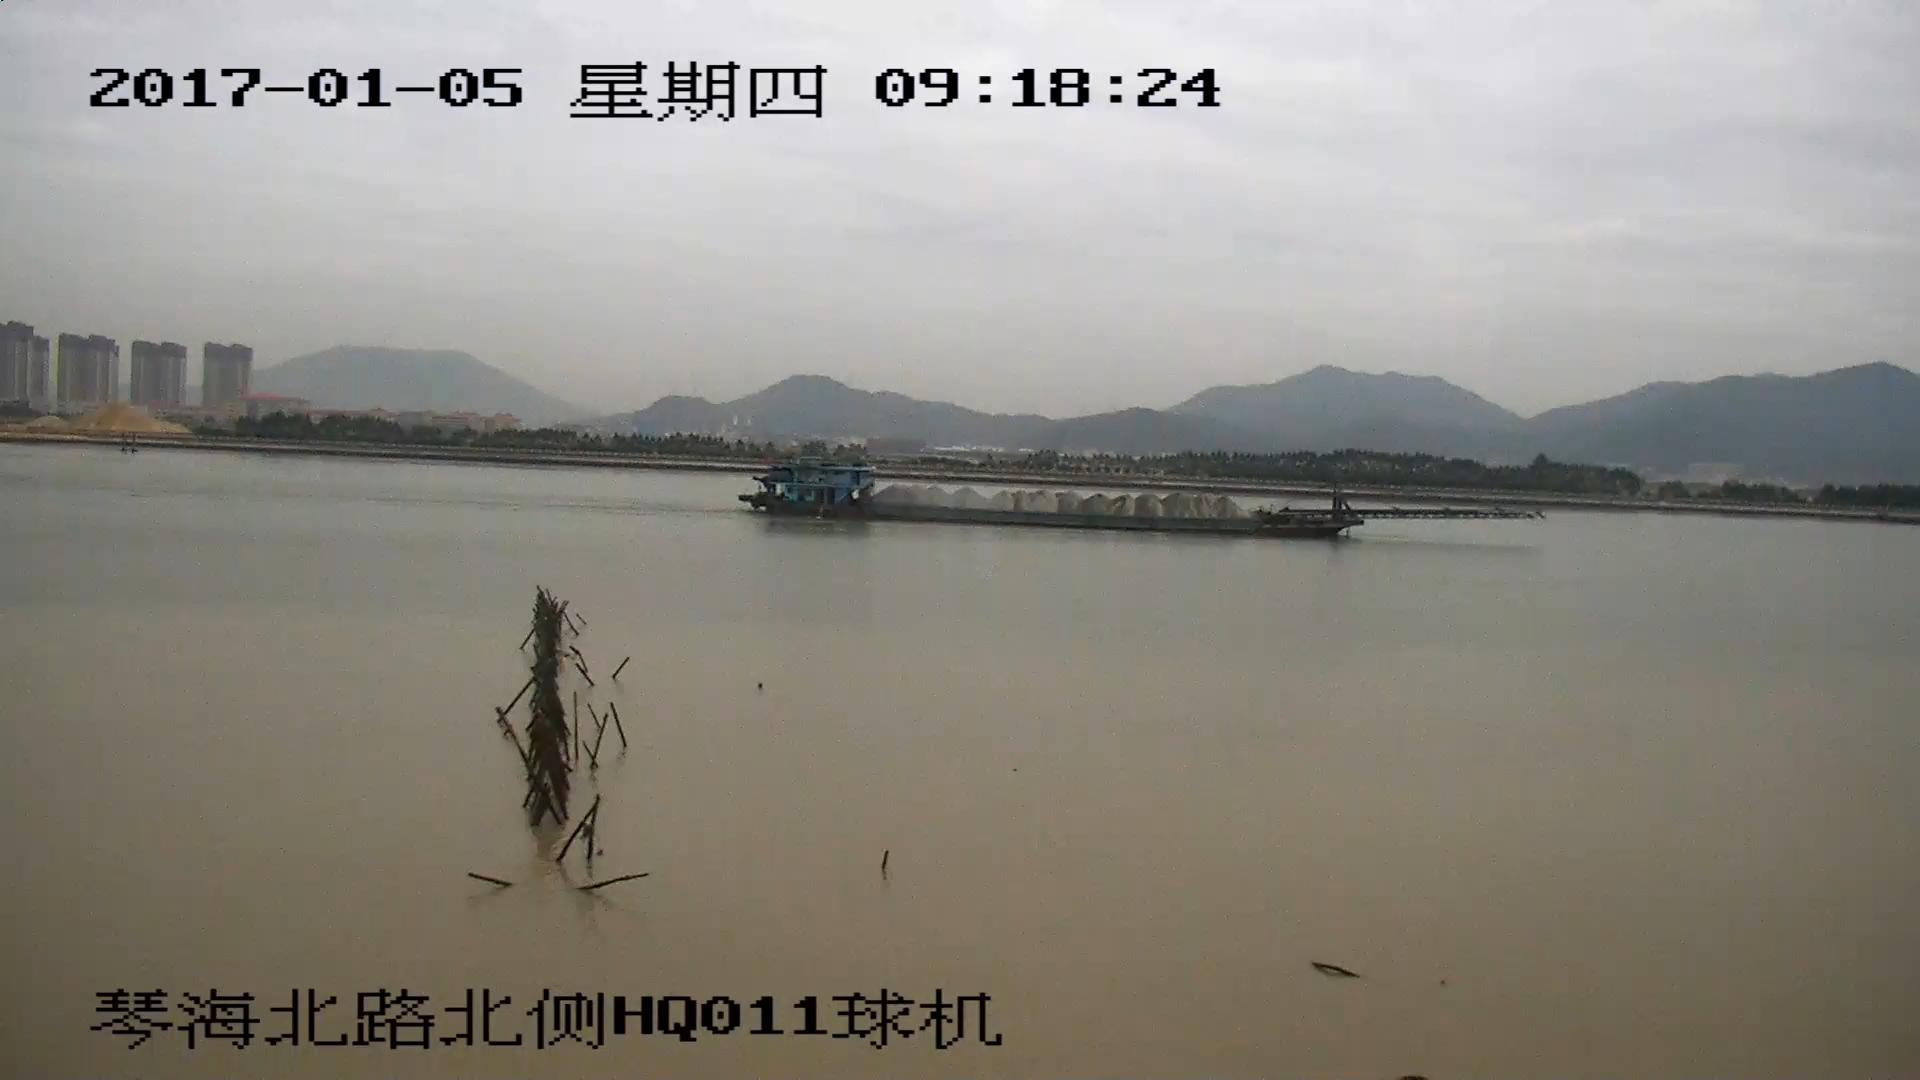ore carrier: (744, 456, 1526, 538)
